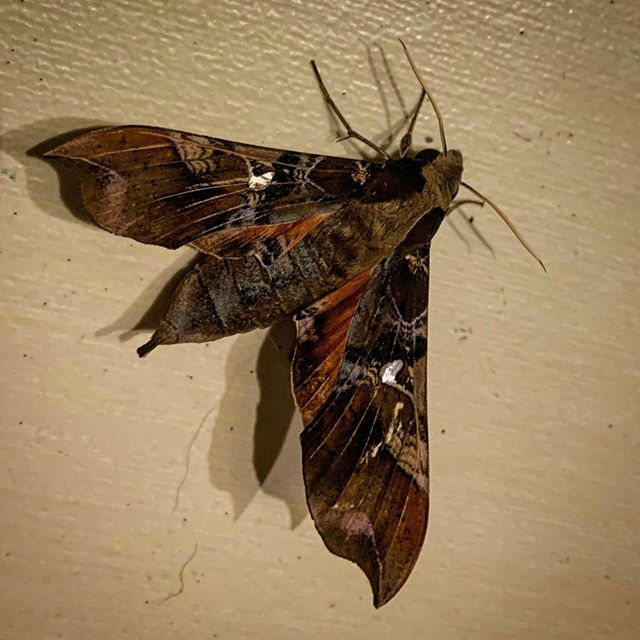insect: (45, 70, 544, 628)
